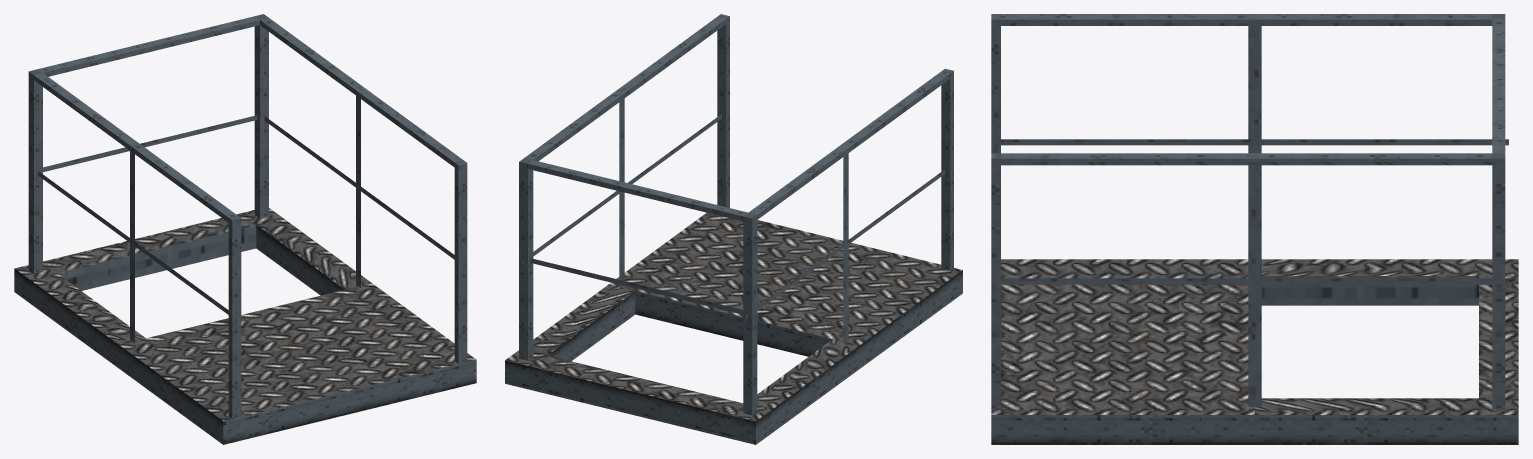
File: mMetalCatwalkFullEnd02.obj
The picture shows the model from 3 angles, left to right: view 1: azimuth 30°, elevation 25°; view 2: azimuth 150°, elevation 25°; view 3: azimuth 270°, elevation 25°; orthographic projection. The views are drawn at different scales.
Parts seen in each view (by area): view 1: MetalCatwalkFullEnd02; view 2: MetalCatwalkFullEnd02; view 3: MetalCatwalkFullEnd02.
Boxes of the visible parts, <box> form: MetalCatwalkFullEnd02: <box>14,14,476,444</box>; MetalCatwalkFullEnd02: <box>505,14,962,444</box>; MetalCatwalkFullEnd02: <box>991,14,1518,444</box>.
Bounding box in the file's own units: 2.8 × 2.35 × 4.
